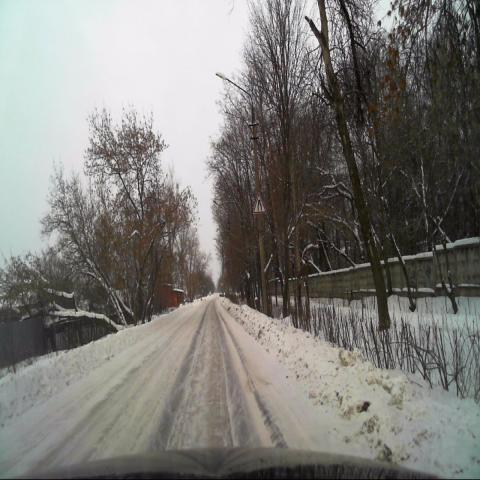1_20: (253, 192, 266, 214)
